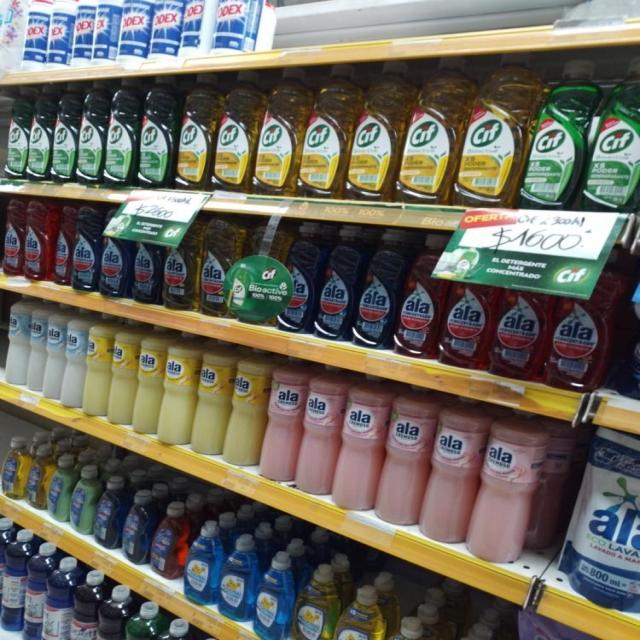ala_conc_amarillo: (199, 218, 233, 318), (163, 222, 198, 312)
ala_conc_azul: (356, 228, 397, 350), (317, 225, 355, 342), (280, 222, 317, 334), (72, 206, 99, 293), (627, 255, 640, 405), (132, 240, 162, 304), (100, 236, 130, 299)
ala_conc_rojo: (549, 272, 614, 392), (397, 234, 441, 360), (492, 285, 547, 381), (441, 276, 490, 369), (24, 200, 52, 282), (3, 198, 23, 278), (53, 204, 72, 286)
ala_crem_amarillo: (228, 346, 264, 470), (194, 340, 228, 458), (162, 331, 194, 448), (135, 325, 162, 439), (110, 320, 136, 428), (85, 314, 110, 419)
ala_crem_blanco: (63, 311, 85, 411), (5, 297, 27, 387), (44, 307, 64, 403), (28, 302, 44, 393)
ala_crem_rosado: (472, 419, 539, 565), (426, 405, 474, 545), (381, 393, 425, 528), (337, 380, 381, 513), (298, 369, 337, 498), (262, 359, 298, 485)
cif_conc_bot_amarilla: (460, 55, 524, 208), (401, 54, 458, 205), (349, 58, 400, 202), (301, 61, 348, 200), (256, 66, 300, 197), (214, 68, 254, 194), (177, 71, 214, 192)
cif_conc_botella_verde: (525, 58, 587, 209), (587, 54, 640, 213), (139, 74, 175, 189), (106, 77, 137, 188), (78, 79, 104, 187), (53, 82, 77, 184), (28, 84, 52, 182), (6, 88, 28, 180)
magistral_con_amarillo: (294, 562, 333, 640), (334, 584, 381, 640), (378, 615, 433, 640), (439, 622, 503, 640)
magistral_con_azul: (256, 550, 292, 640), (220, 533, 254, 623), (186, 522, 218, 606)
